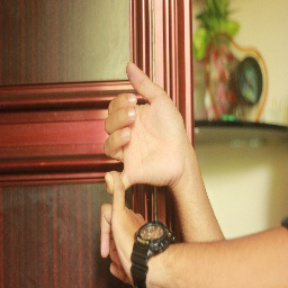S: (92, 59, 186, 278)
